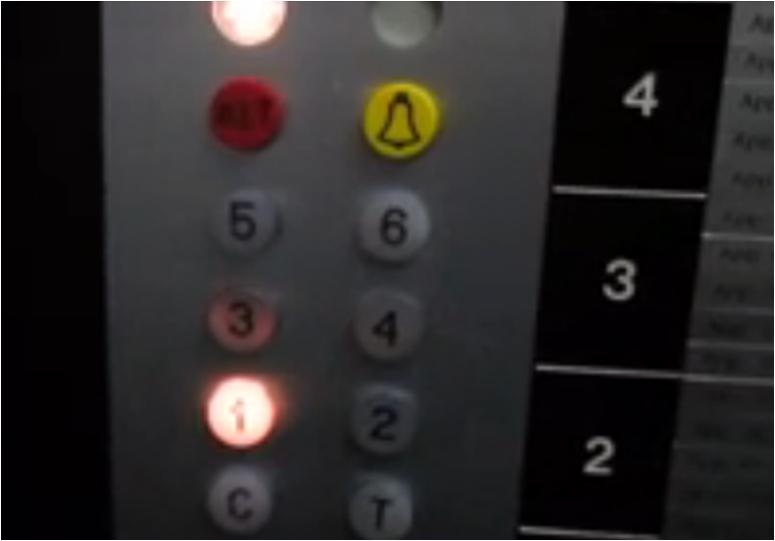1: (206, 376, 273, 446)
2: (350, 387, 419, 456)
3: (205, 286, 279, 353)
4: (352, 286, 424, 361)
5: (208, 188, 280, 256)
6: (356, 190, 429, 263)
C: (206, 467, 272, 533)
T: (347, 479, 413, 541)
alarm: (361, 82, 438, 160)
blur: (206, 77, 286, 152)
